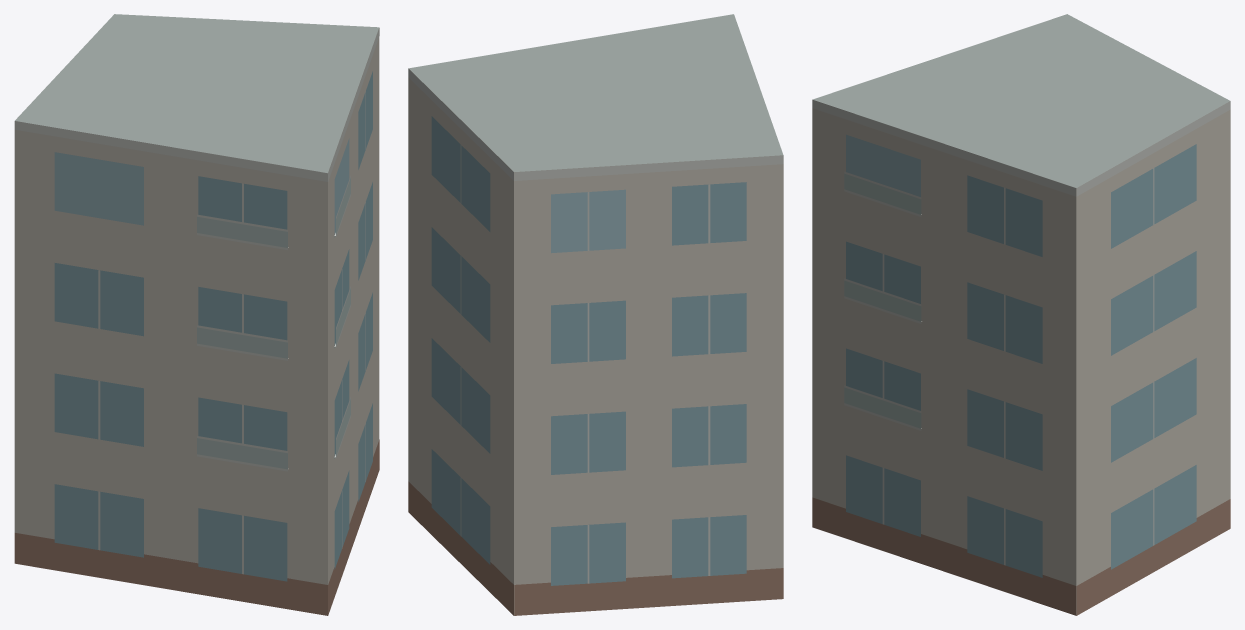
File: survey-upis-32584281.glb
3 renders of one model, left to right at view 1: azimuth 30°, elevation 25°; view 2: azimuth 150°, elevation 25°; view 3: azimuth 270°, elevation 25°, orthographic. The views are drawn at different scales.
Visible parts, largest first — view 1: survey-upis-32584281.tmp; view 2: survey-upis-32584281.tmp; view 3: survey-upis-32584281.tmp.
Part boxes in pixels (x1,y1,x2,y2): survey-upis-32584281.tmp: (14,14,379,615); survey-upis-32584281.tmp: (408,14,783,615); survey-upis-32584281.tmp: (812,14,1230,615).
Bounding box in the file's own units: 10.67 × 12.2 × 10.82.
